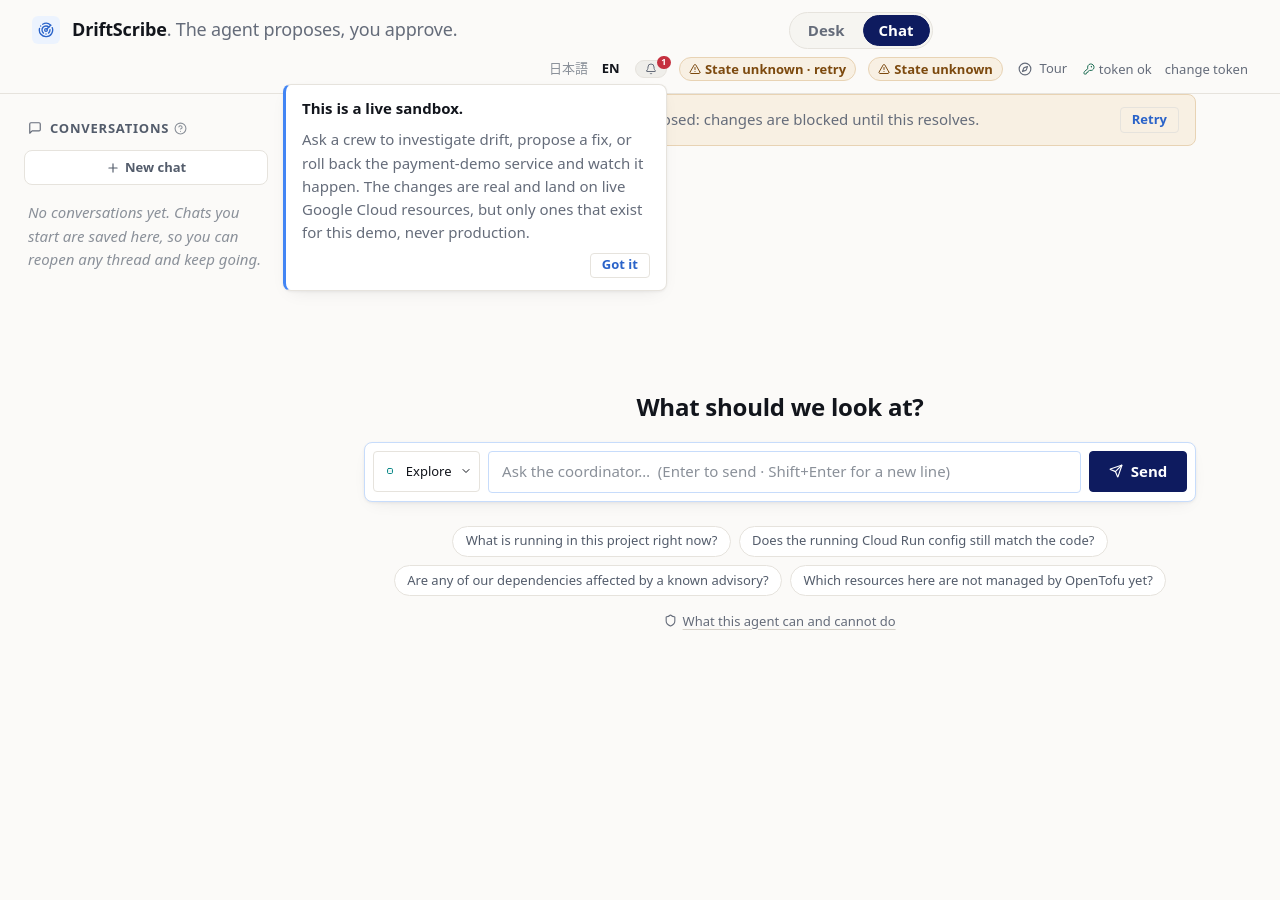
it: App — the empty new-chat state › keeps the safety cage one click away, and fetches nothing until it is asked for
Click the button with test id "capability-link" at [780, 621], box [659, 608, 901, 633]
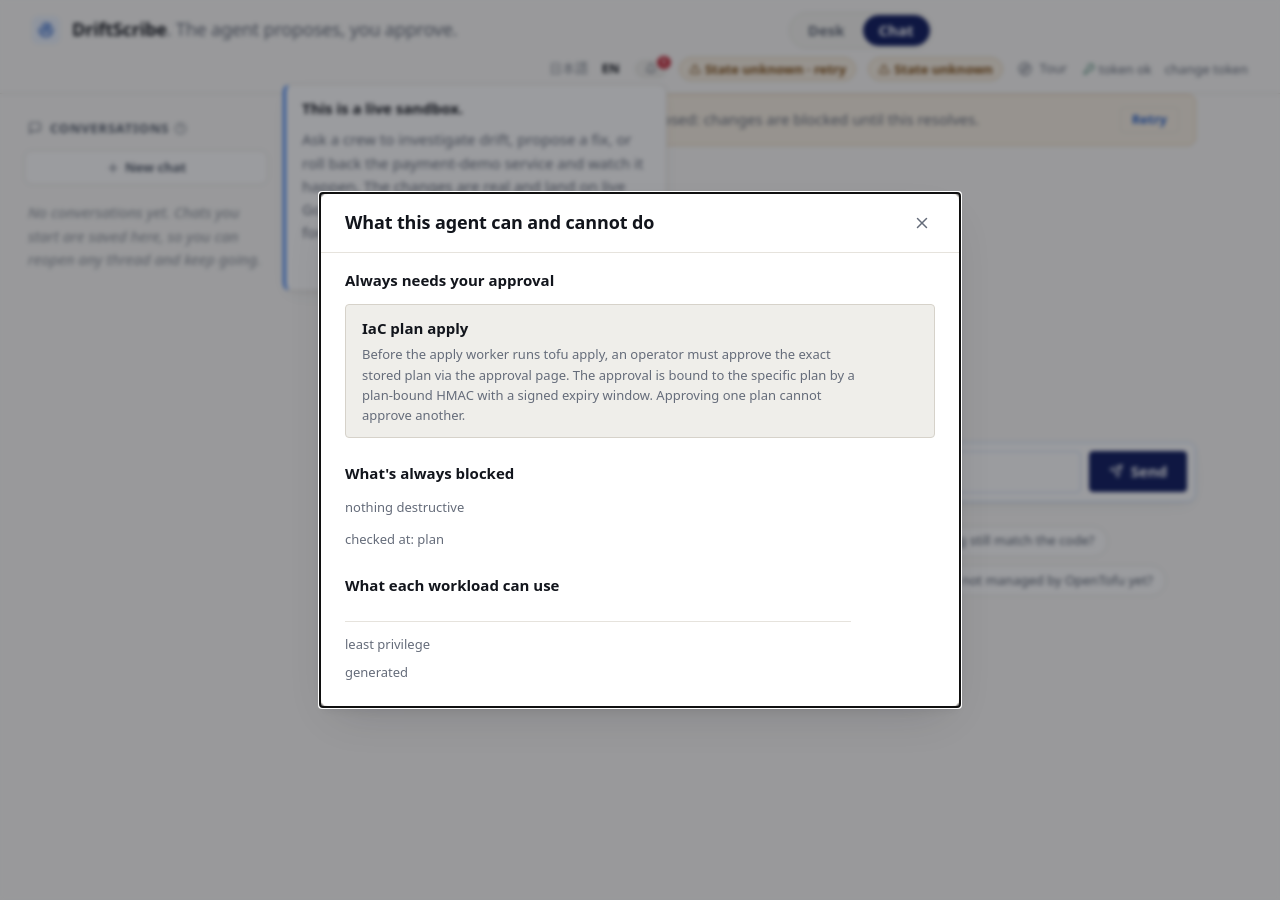
expect the element with test id "cap-gates" is shown: met, box [345, 269, 935, 438]
expect the dialog with test id "capability-card" is shown: met, box [320, 193, 960, 707]
expect the dialog with test id "capability-card" shows "What this agent can and cannot do": met, box [345, 210, 654, 234]
